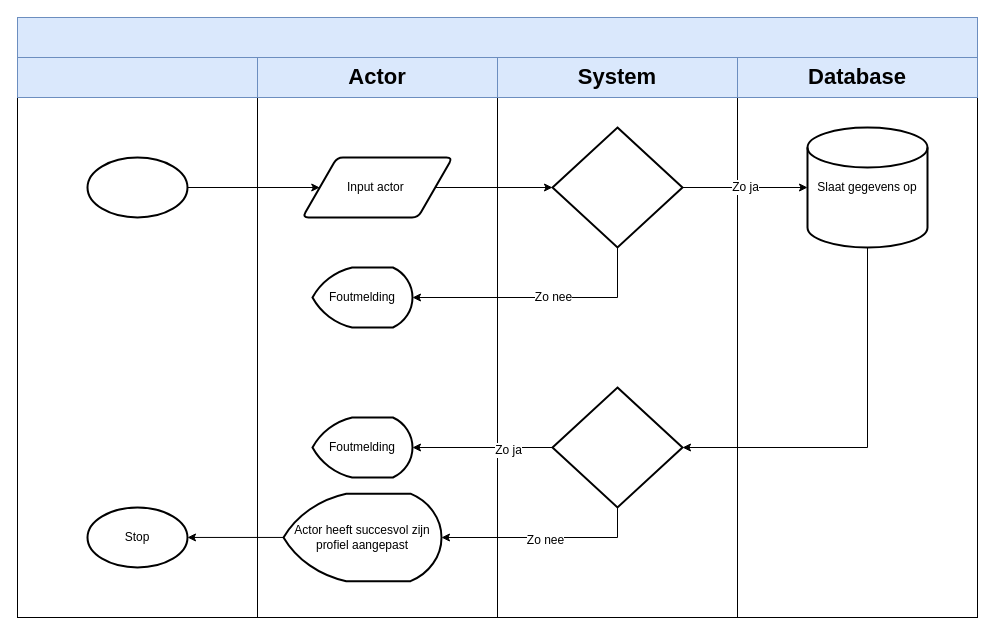
Some shapes in this 995 by 635 pixel diagram are drawn without their labels. Each missing label, with the box of its shape:
Checkt of alle velden zijn ingevuld: (551, 126, 683, 248)
Checkt of email al bestaat: (551, 386, 683, 508)
Profiel docent: (16, 16, 978, 58)
Start: (86, 156, 188, 218)
